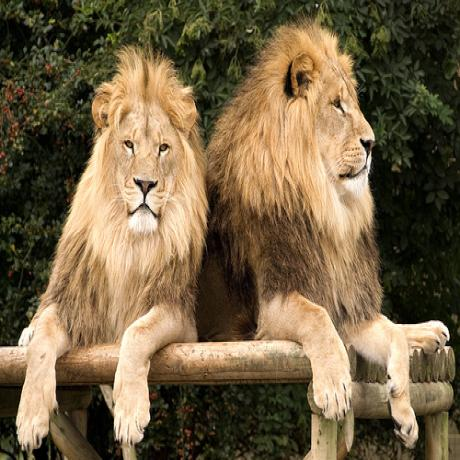Lion: (209, 16, 448, 441), (16, 43, 208, 449)
